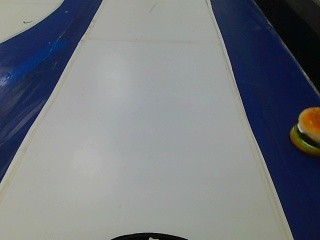burger: (287, 105, 318, 152)
